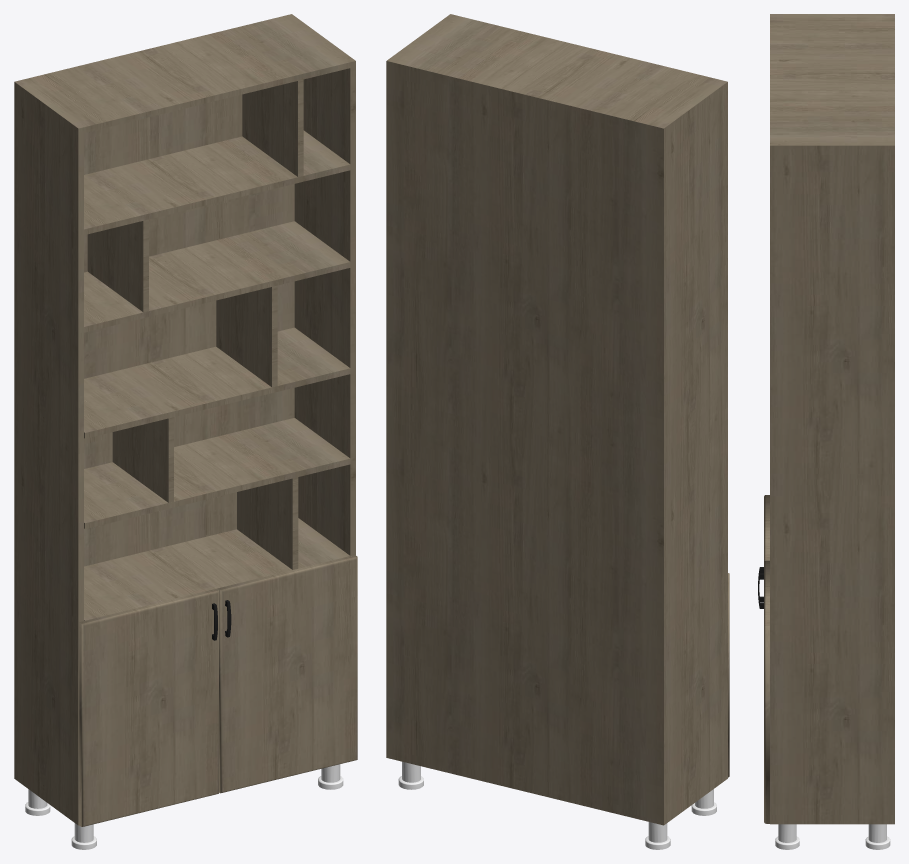
The picture shows the model from 3 angles, left to right: view 1: azimuth 30°, elevation 25°; view 2: azimuth 150°, elevation 25°; view 3: azimuth 270°, elevation 25°; orthographic projection. The views are drawn at different scales.
Parts seen in each view (by area): view 1: Box034, Box035, Box042, Box038, Box037, Box036, Box039, Box040, Box045, Box043, Box047, Box044 (+1 smaller); view 2: Box034; view 3: Box034, Box042, Cylinder012, Cylinder013, Box035.
Part boxes in pixels (x1=…): Box034: x1=14, y1=14, x2=355, y2=825; Box035: x1=79, y1=588, x2=218, y2=826; Box042: x1=217, y1=555, x2=357, y2=793; Box038: x1=84, y1=130, x2=350, y2=235; Box037: x1=84, y1=327, x2=351, y2=438; Box036: x1=84, y1=418, x2=351, y2=528; Box039: x1=84, y1=221, x2=350, y2=332; Box040: x1=84, y1=518, x2=349, y2=620; Box045: x1=216, y1=285, x2=277, y2=387; Box043: x1=242, y1=79, x2=303, y2=176; Box047: x1=237, y1=477, x2=298, y2=569; Box044: x1=87, y1=219, x2=148, y2=312; Box034: x1=386, y1=14, x2=727, y2=825; Box034: x1=770, y1=14, x2=894, y2=824; Box042: x1=764, y1=560, x2=769, y2=823; Cylinder012: x1=865, y1=824, x2=890, y2=849; Cylinder013: x1=775, y1=824, x2=799, y2=849; Box035: x1=764, y1=495, x2=769, y2=561.
Bounding box in the file's own units: 1 × 2.5 × 0.4389.
Materials: 3 (1 with a texture image).
